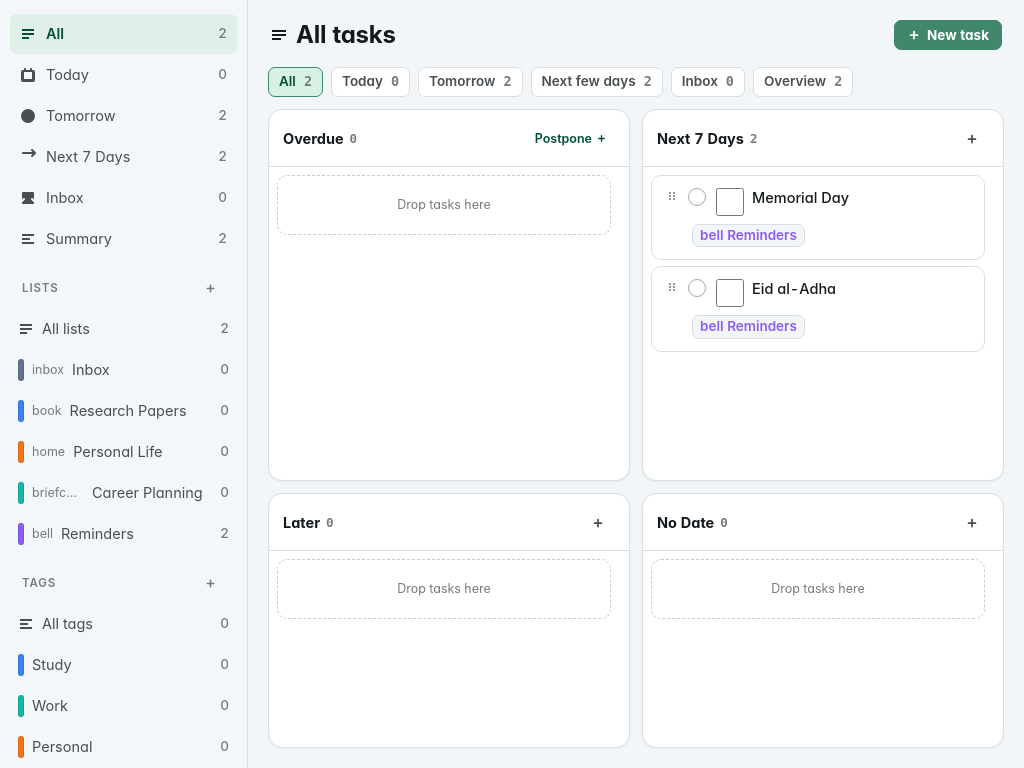
Scenario: TasksModule — T-EMPTY-1 board-level empty state EN (D-QT) › T-EMPTY-1b: clicking 'Today' (overdue bucket) when overdue is empty shows 'No overdue tasks' (D-QT)
Click the 2nd text with class "grow".
click(67, 75)  # box [46,66,89,84]
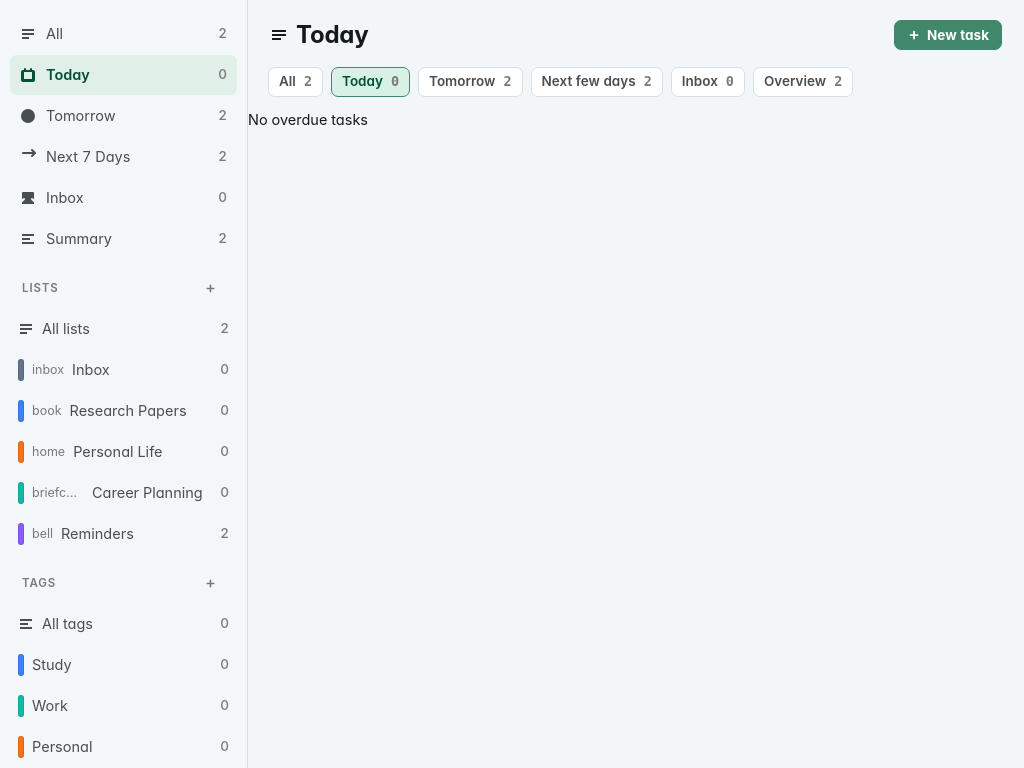
Result: the message with class "tasks-board-empty" reads "No overdue tasks" at [248,111,368,128]
